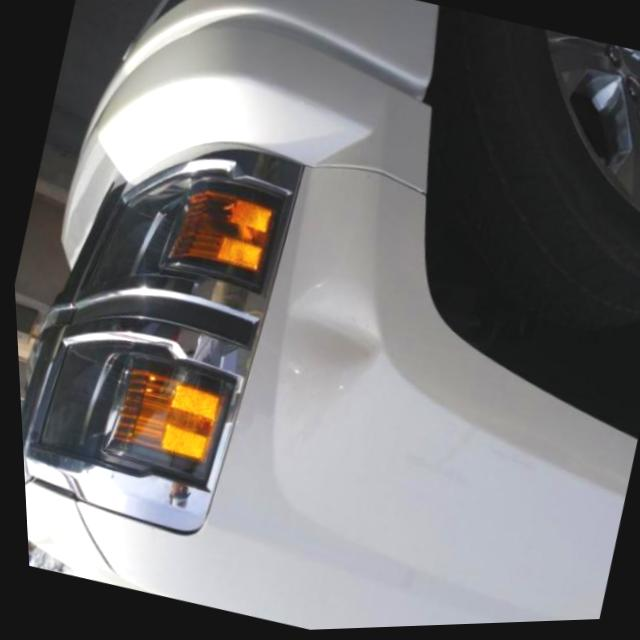Dent: (282, 273, 391, 377)
